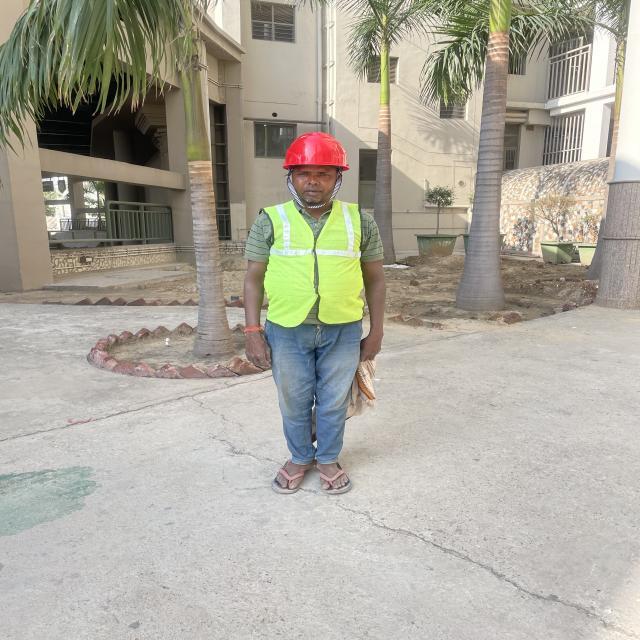safe: (241, 132, 387, 494)
